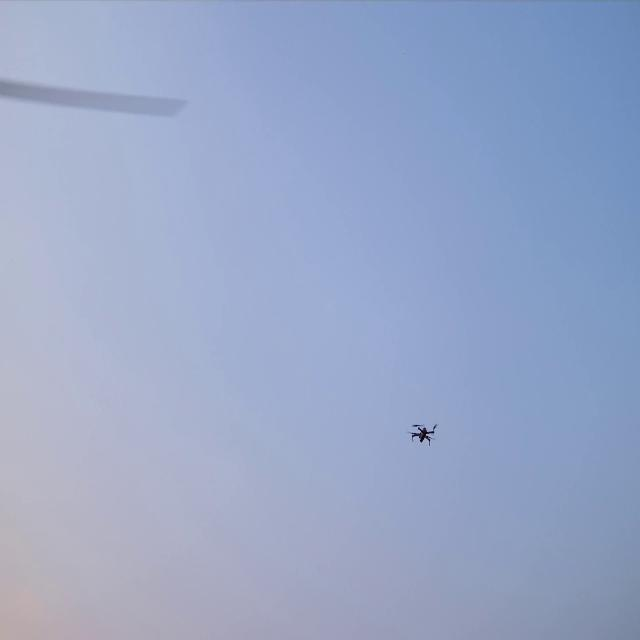UAV: (406, 421, 439, 447)
